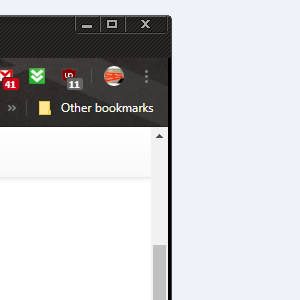close: (124, 14, 167, 34)
